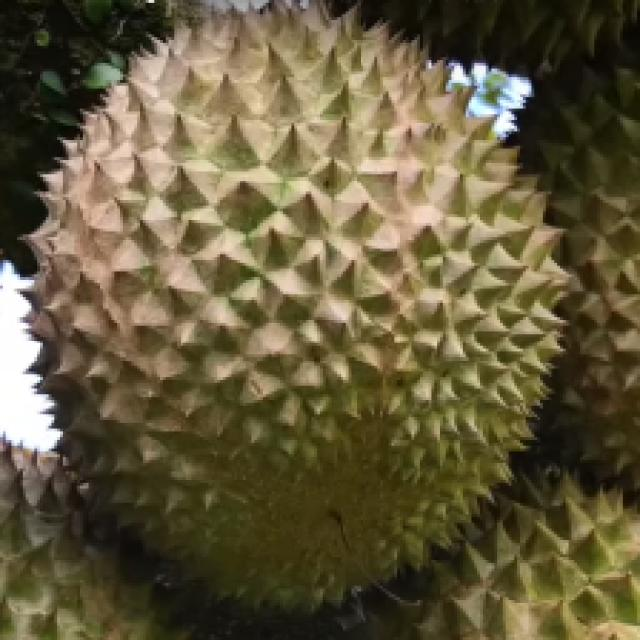d197: (29, 1, 565, 612), (549, 69, 640, 463), (403, 492, 630, 640), (5, 428, 131, 640)
